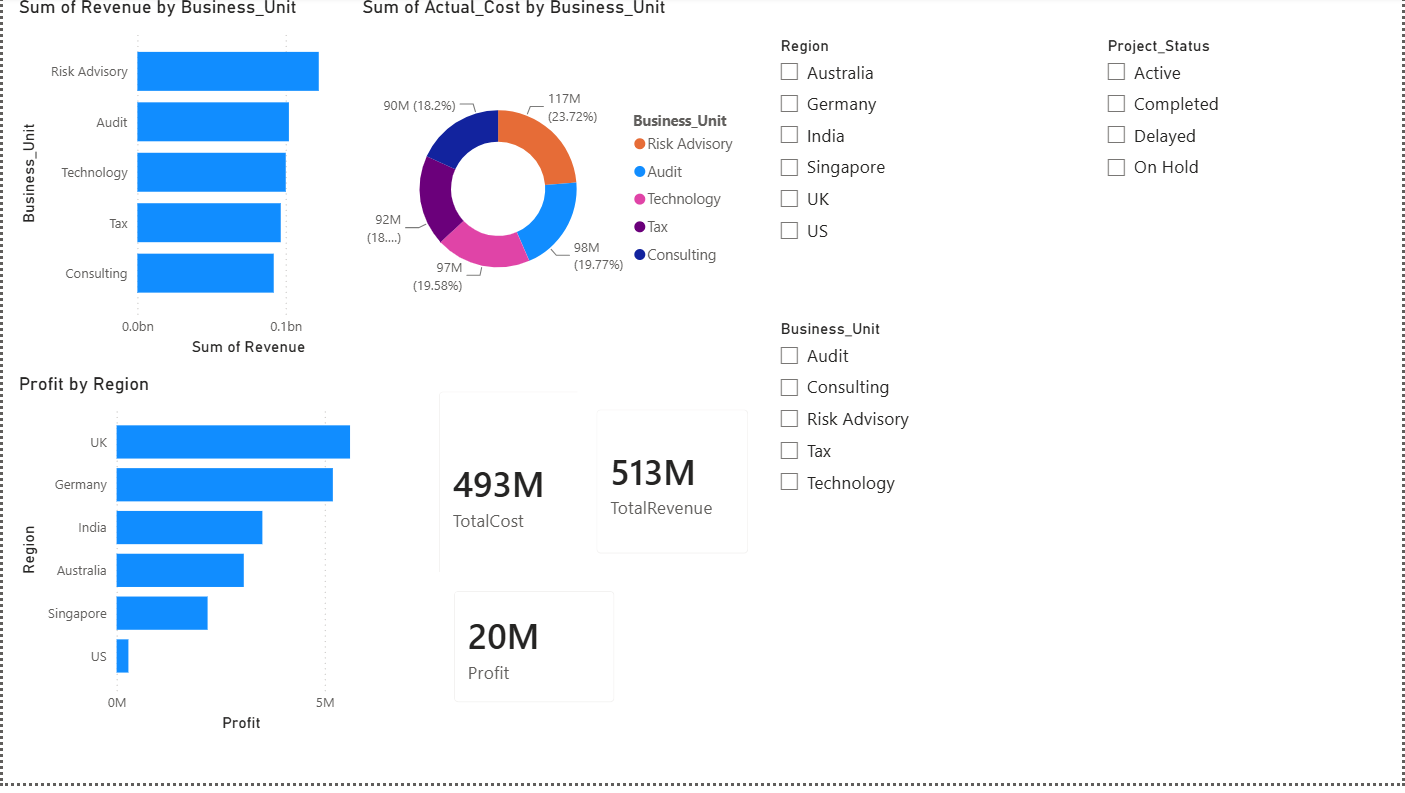

This screenshot's page, from the dashboard's own definition file:
{"tool":"powerbi","page":{"name":"Financial Performance","canvas":[1280,720],"ordinal":2},"visuals":[{"type":"clusteredBarChart","fields":{"Category":["Sheet.Business_Unit"],"Y":["Sum(Sheet.Revenue)"]},"box":[9.2,0,336.5,332.8],"z":0},{"type":"clusteredBarChart","fields":{"Y":["Sheet.Profit"],"Category":["Sheet.Region"]},"box":[9.2,343.9,336.5,332.8],"z":1000},{"type":"donutChart","fields":{"Category":["Sheet.Business_Unit"],"Y":["Sum(Sheet.Actual_Cost)"]},"box":[323.5,0,360.5,332.8],"z":2000},{"type":"cardVisual","fields":{"Data":["Sheet.TotalCost"]},"box":[380.9,343.9,210.8,223.7],"z":3000},{"type":"cardVisual","fields":{"Data":["Sheet.TotalRevenue"]},"box":[525.1,360.5,173.8,166.4],"z":4000},{"type":"cardVisual","fields":{"Data":["Sheet.Profit"]},"box":[395.7,526.9,181.2,136.8],"z":5000},{"type":"slicer","fields":{"Values":["Sheet.Region"]},"box":[698.9,31.4,288.4,227.4],"z":5001},{"type":"slicer","fields":{"Values":["Sheet.Business_Unit"]},"box":[698.9,290.3,288.4,220],"z":5002},{"type":"slicer","fields":{"Values":["Sheet.Project_Status"]},"box":[997,31,283,227],"z":5003}]}

Visuals, with their boxes in screenshot pixels (x1, y1, x2, y2), scaled from the page's 1280x720 canvas onto the 1405x793 screenshot:
clusteredBarChart - Sheet.Business_Unit x Sum(Sheet.Revenue): x1=10 y1=0 x2=379 y2=367
clusteredBarChart - Sheet.Profit x Sheet.Region: x1=10 y1=379 x2=379 y2=745
donutChart - Sheet.Business_Unit x Sum(Sheet.Actual_Cost): x1=355 y1=0 x2=751 y2=367
cardVisual - Sheet.TotalCost: x1=418 y1=379 x2=649 y2=625
cardVisual - Sheet.TotalRevenue: x1=576 y1=397 x2=767 y2=580
cardVisual - Sheet.Profit: x1=434 y1=580 x2=633 y2=731
slicer - Sheet.Region: x1=767 y1=35 x2=1084 y2=285
slicer - Sheet.Business_Unit: x1=767 y1=320 x2=1084 y2=562
slicer - Sheet.Project_Status: x1=1094 y1=34 x2=1404 y2=284
